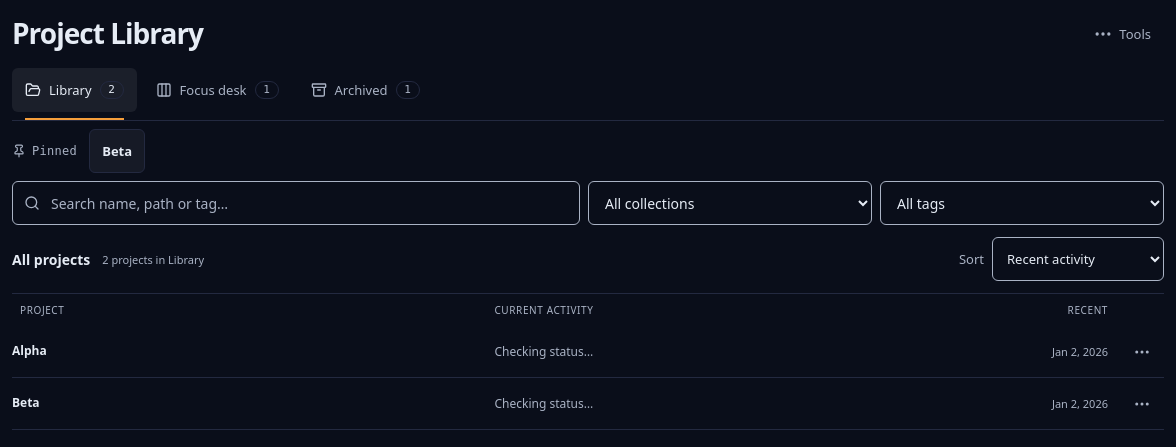
Test: Library page states and affordances › shows per-view counts once loaded without changing control names, and explains each view on demand
This screenshot has width=1176, height=447.
Expected: the button with aria-label "Open Alpha" is shown, [12, 330, 474, 374]
What coordinates should you click on to do the following:
click the heading named "Library tools"
I would click on:
 (1122, 34)
Its box is [1093, 24, 1151, 44].
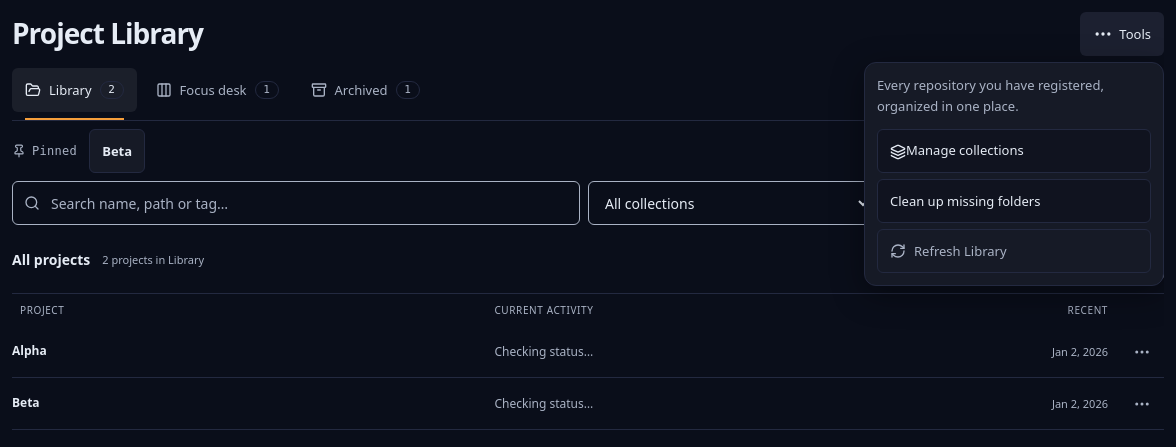
Now the text "Every repository you have registered" is shown, box [877, 76, 1104, 115]
What coordinates should you click on to do the following:
click the button "Focus desk 1"
I would click on:
 (217, 90)
Its box is [143, 68, 292, 112].
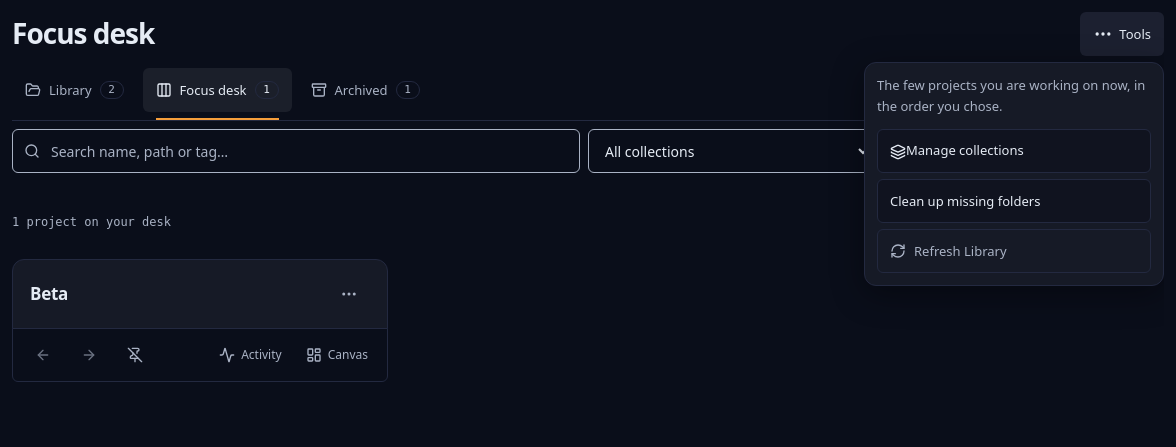
Now the text "in the order you chose" is shown, box [877, 76, 1145, 115]
What coordinates should you click on to do the following:
click the button "Archived 1"
I would click on:
 (365, 90)
Its box is [298, 68, 433, 112].
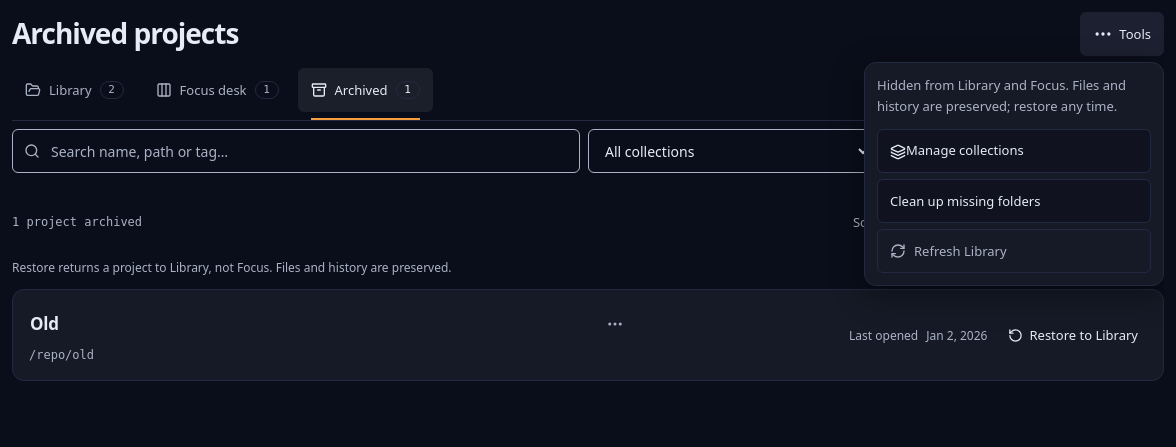
Now the text "restore any time" is shown, box [877, 76, 1126, 115]
